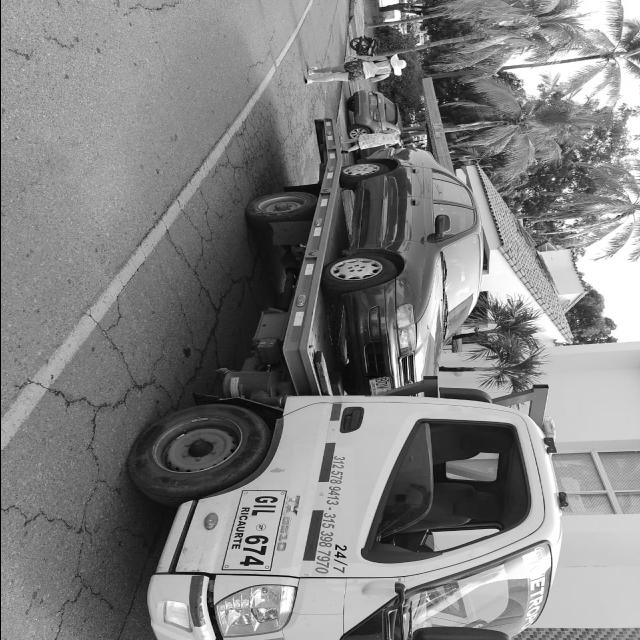plate: (364, 376, 394, 398)
